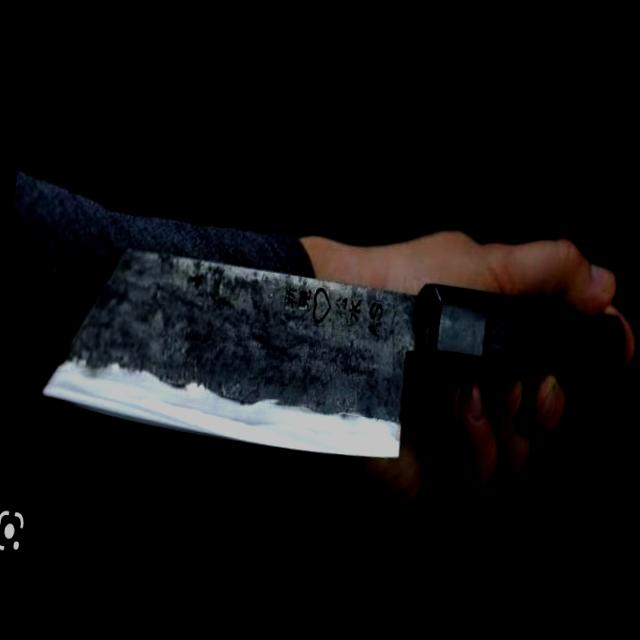knife: (35, 241, 628, 493)
